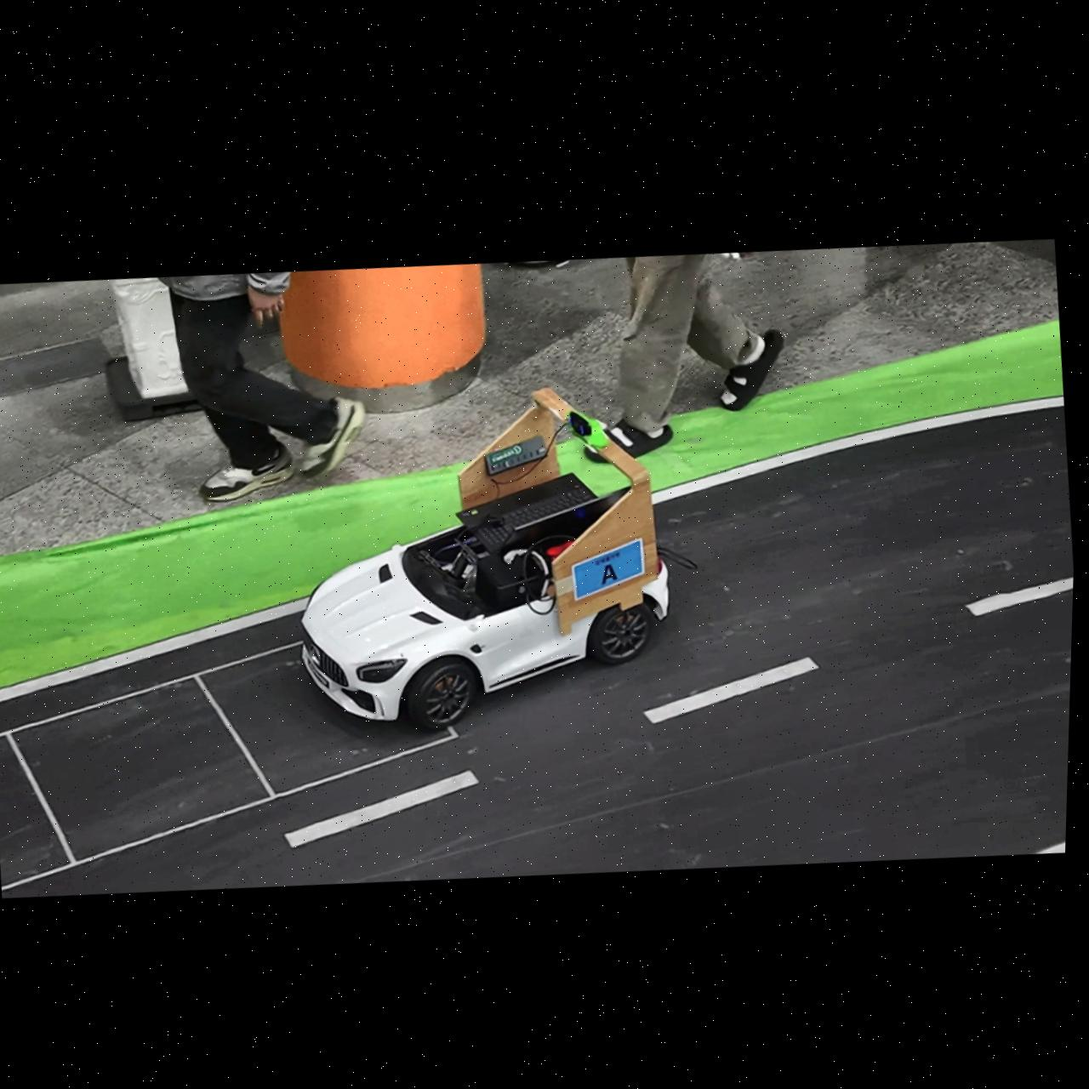broken_line: (284, 770, 480, 848), (643, 657, 820, 724), (964, 577, 1073, 616)
